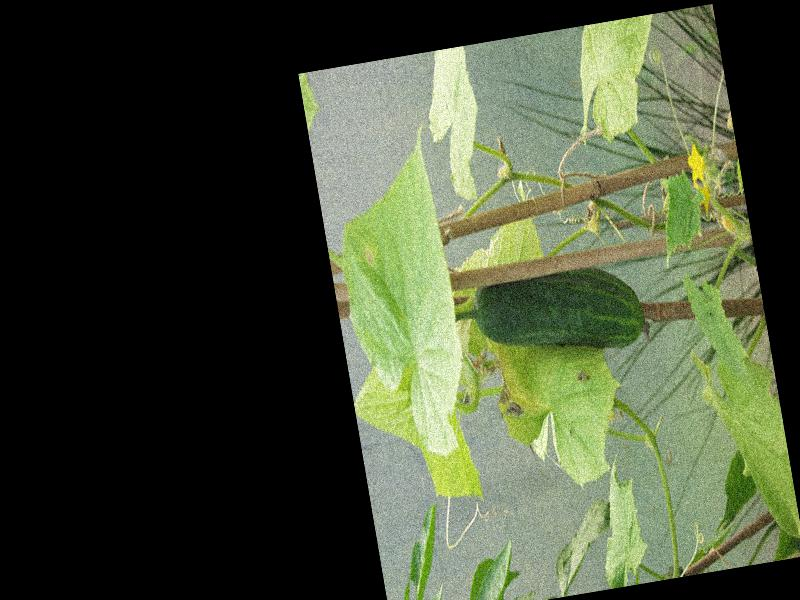Cucumber: (470, 258, 651, 372)
